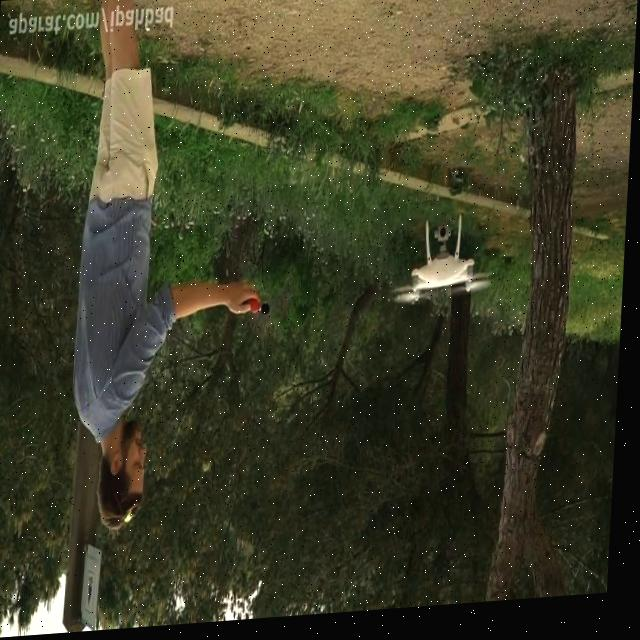drone: (392, 216, 502, 315)
